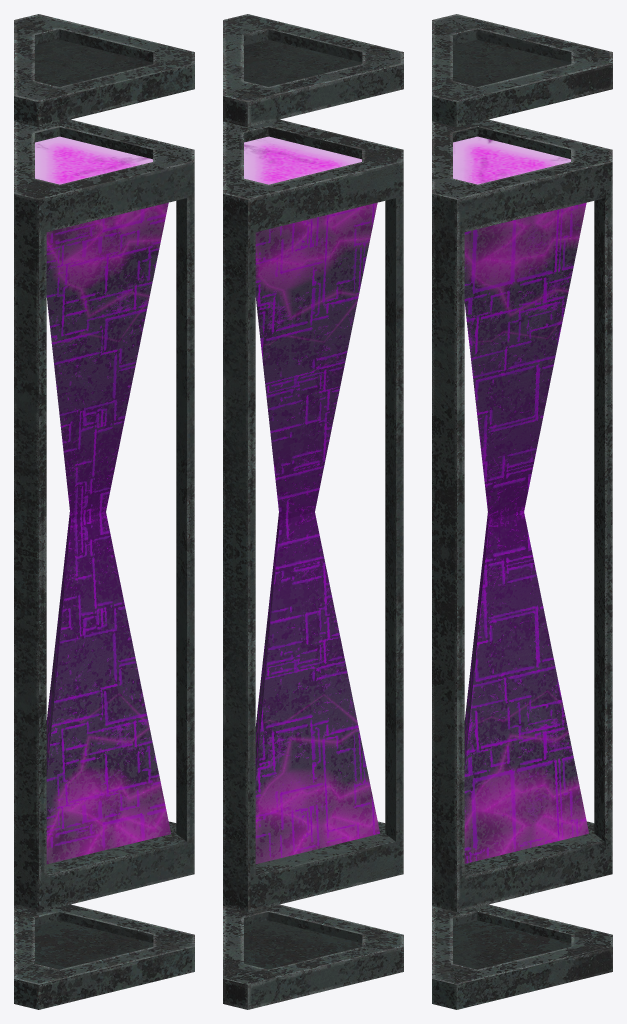
Rendered from WarpCore.fbx.
The picture shows the model from 3 angles, left to right: view 1: azimuth 30°, elevation 25°; view 2: azimuth 150°, elevation 25°; view 3: azimuth 270°, elevation 25°; orthographic projection.
Parts seen in each view (by area): view 1: Cylinder; view 2: Cylinder; view 3: Cylinder.
Boxes of the visible parts, x1=… form: Cylinder: x1=14, y1=14, x2=194, y2=1009; Cylinder: x1=223, y1=14, x2=403, y2=1009; Cylinder: x1=432, y1=14, x2=612, y2=1009.
Bounding box in the file's own units: 93.75 × 449 × 81.19.
1 material, 1 textured.
